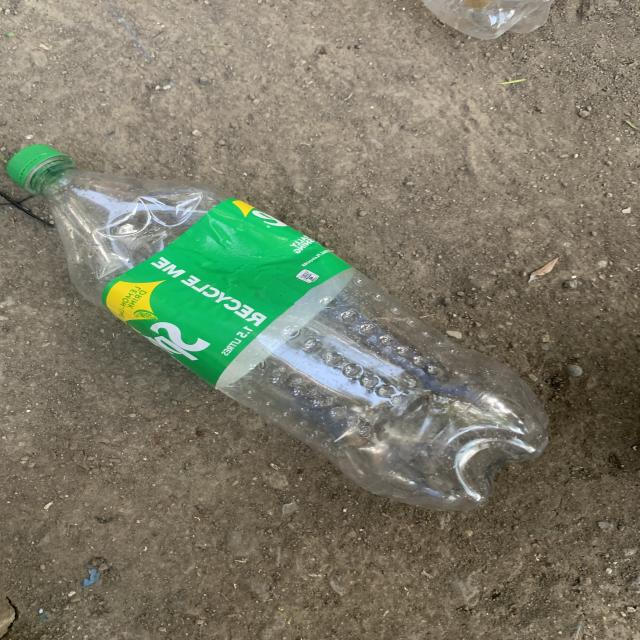Bottle: (7, 145, 548, 511)
